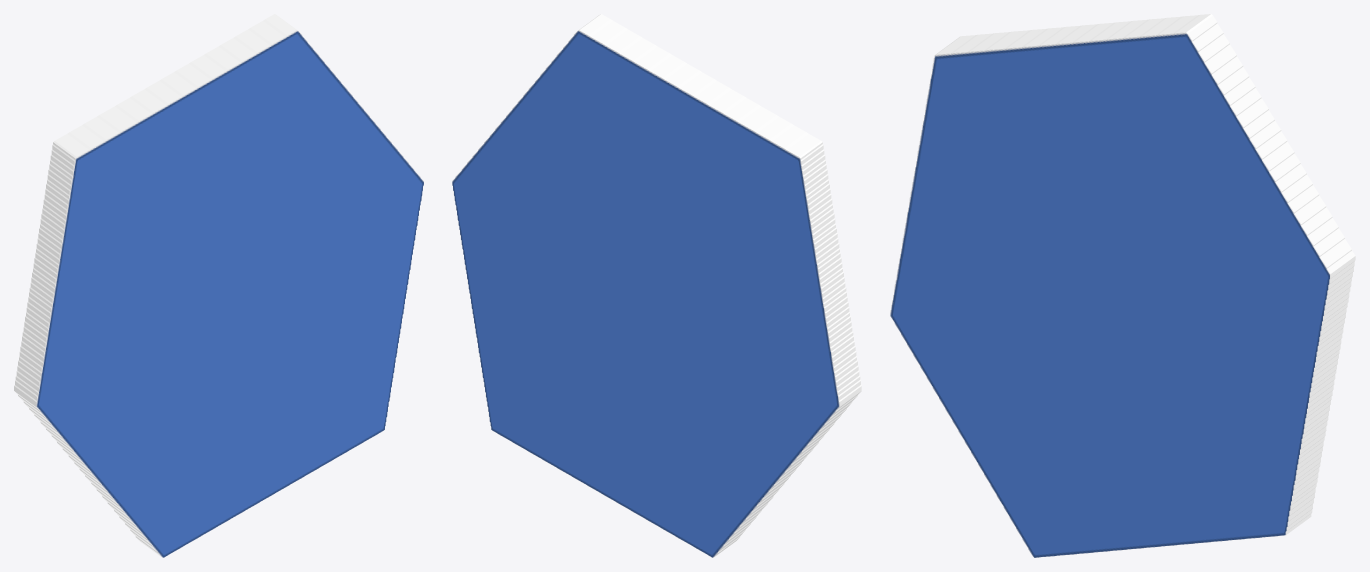
File: simple_model8.glb
3 renders of one model, left to right at view 1: azimuth 30°, elevation 25°; view 2: azimuth 150°, elevation 25°; view 3: azimuth 330°, elevation 25°, orthographic. The views are drawn at different scales.
Bounding box in the file's own units: 1 × 1.22 × 0.1.
Materials: 2 (1 with a texture image).
